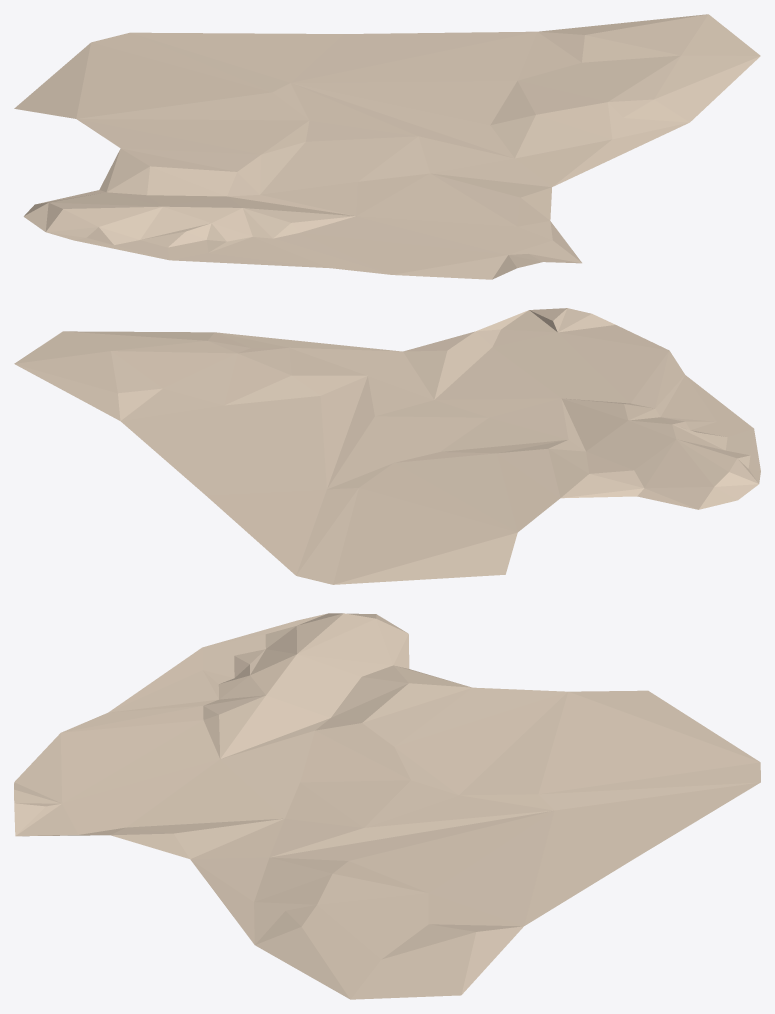
File: Terrain_SandField_010.fbx
3 views of the same model, one above another, from view 1: azimuth 30°, elevation 25°; view 2: azimuth 150°, elevation 25°; view 3: azimuth 270°, elevation 25° (orthographic). The views are drawn at different scales.
Parts seen in each view (by area): view 1: Terrain_SandField_010; view 2: Terrain_SandField_010; view 3: Terrain_SandField_010.
Part boxes in pixels (box(x1,y1,x2,y2)): Terrain_SandField_010: box(14, 14, 760, 279); Terrain_SandField_010: box(14, 308, 760, 584); Terrain_SandField_010: box(14, 613, 760, 999).
Bounding box in the file's own units: 25.32 × 1.03 × 21.17.
